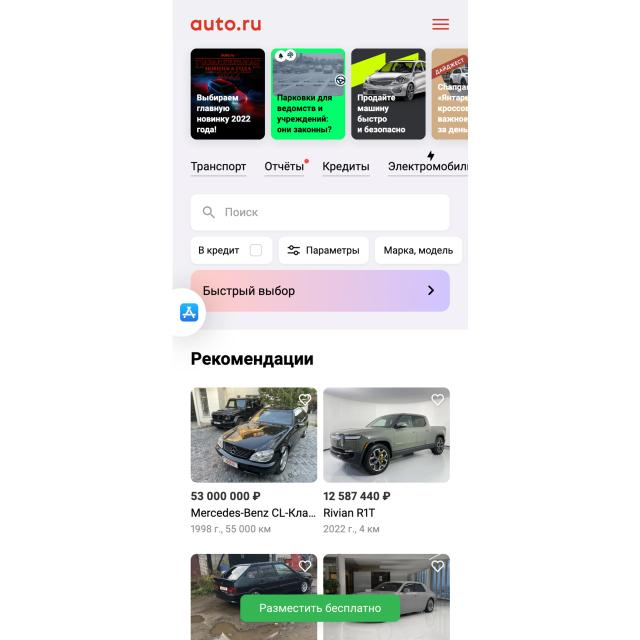CheckBox: (190, 269, 450, 312), (241, 594, 401, 622), (279, 235, 369, 264), (373, 236, 462, 264), (189, 237, 274, 264), (174, 289, 207, 338), (248, 243, 264, 259)
CheckedTextView: (190, 194, 451, 232)
bag: (173, 2, 468, 48)
breadcrumbs: (189, 350, 316, 372)
carousel: (201, 204, 216, 221)
copy: (189, 386, 318, 484), (324, 387, 449, 483), (190, 47, 265, 140), (271, 48, 346, 141), (351, 48, 426, 141)
data feed: (259, 601, 382, 615)
date picker: (188, 16, 264, 34)
decoration: (187, 147, 468, 180), (431, 16, 452, 34)
footer: (223, 205, 260, 219)
